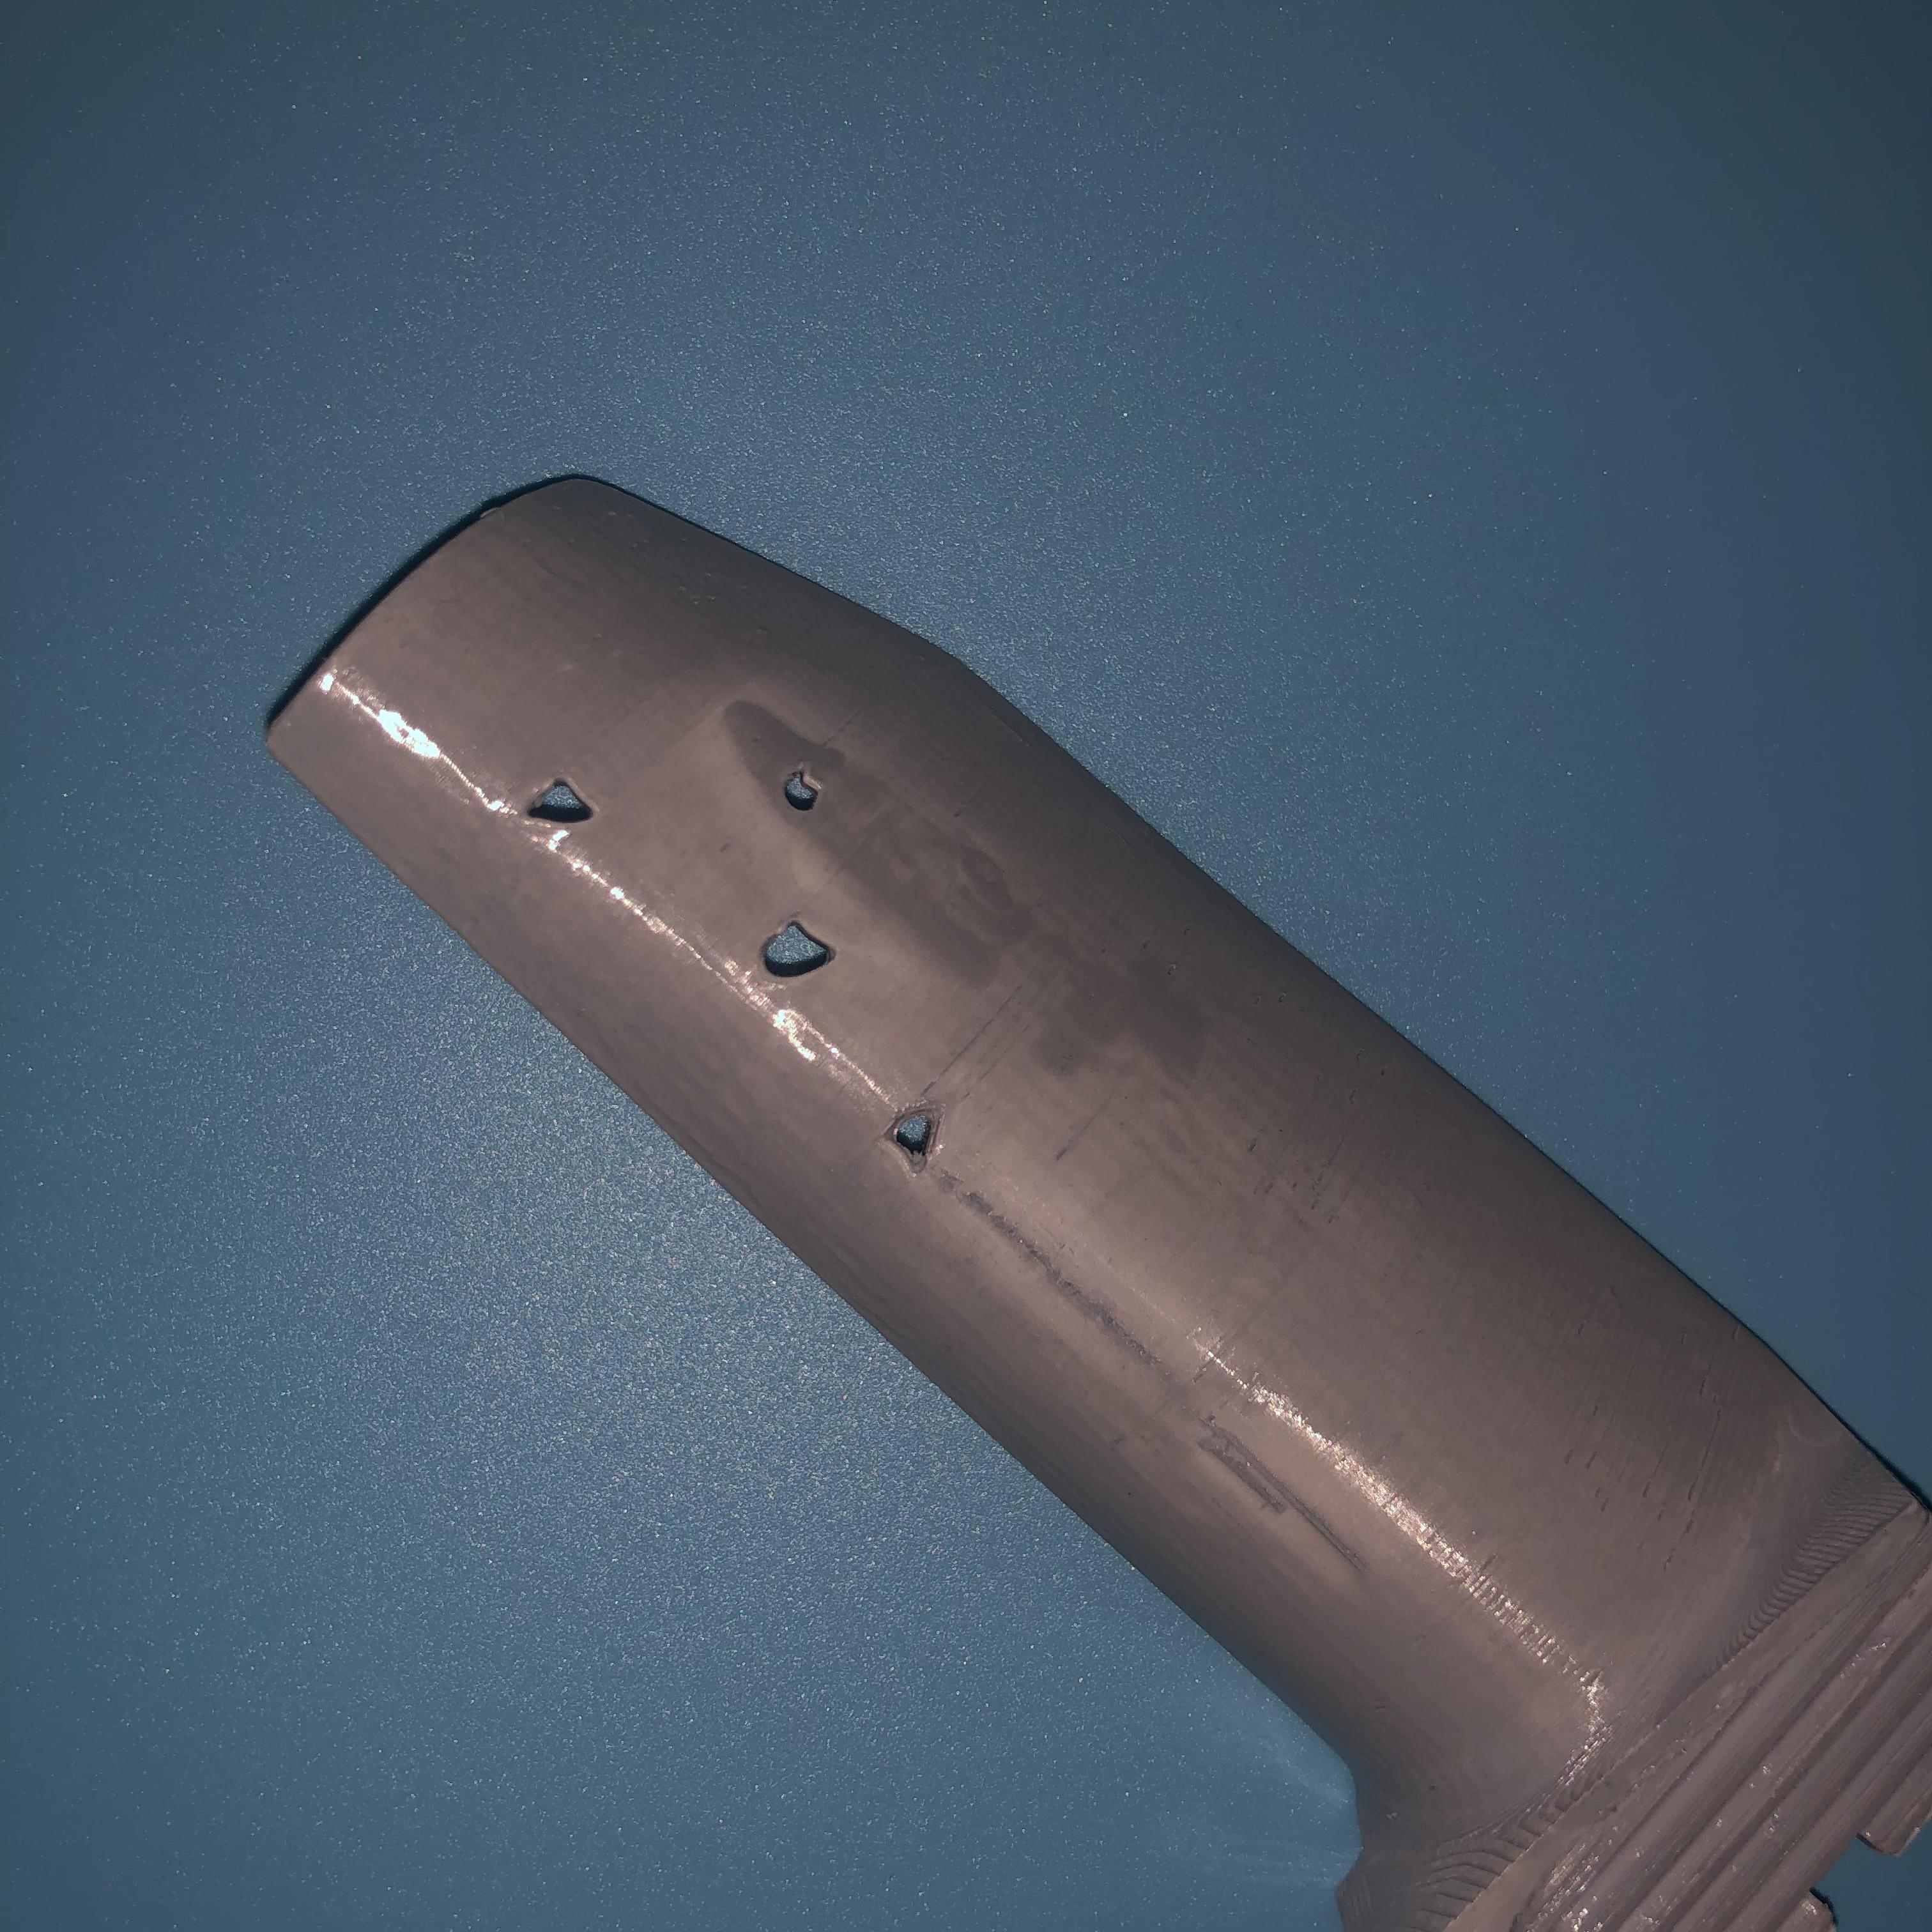breakdown: (747, 911, 863, 987), (524, 763, 605, 837), (885, 1099, 954, 1184), (770, 770, 833, 816)
